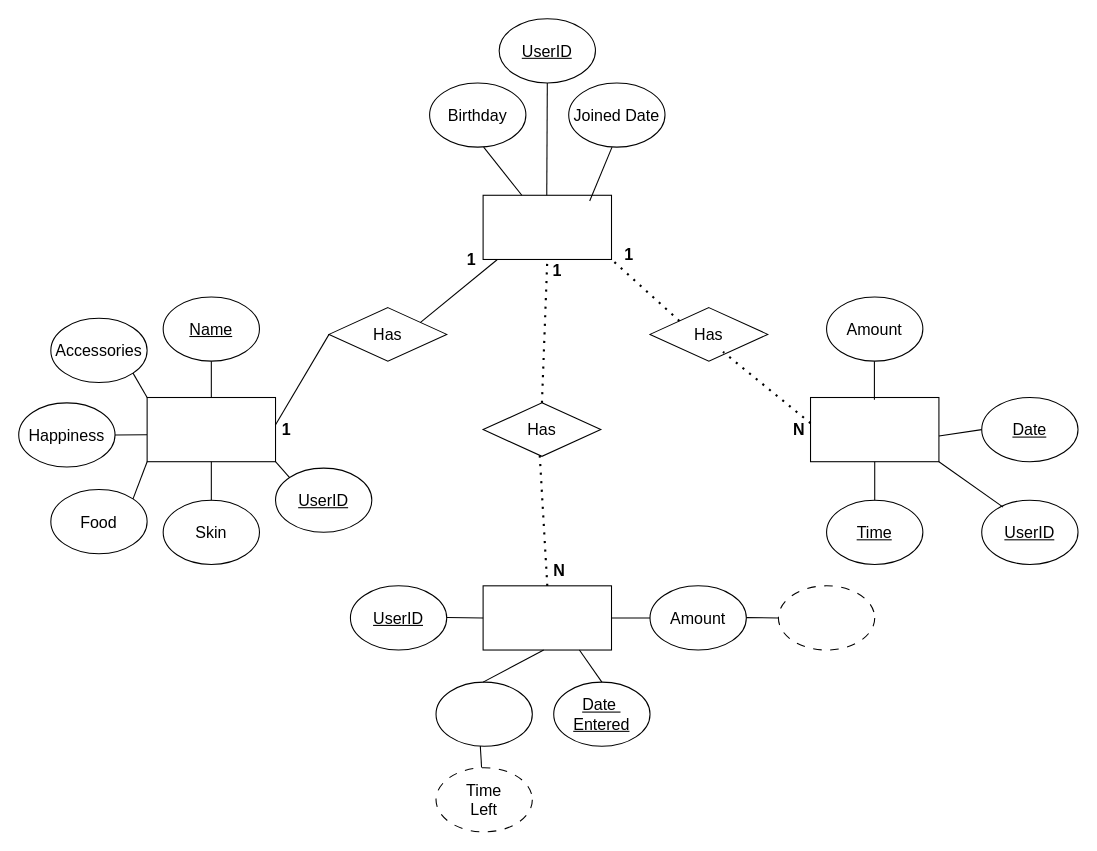
Some shapes in this 1097 by 851 pixel diagram are drawn without their labels. The centre of each missing label's shape, as x and y in pixels:
"Amount Left" goes at point 826,617.
"Due Date" goes at point 483,713.
"Goal" goes at point 547,617.
"Pet/Character" goes at point 211,429.
"User" goes at point 547,226.
"Water Intake" goes at point 874,429.
